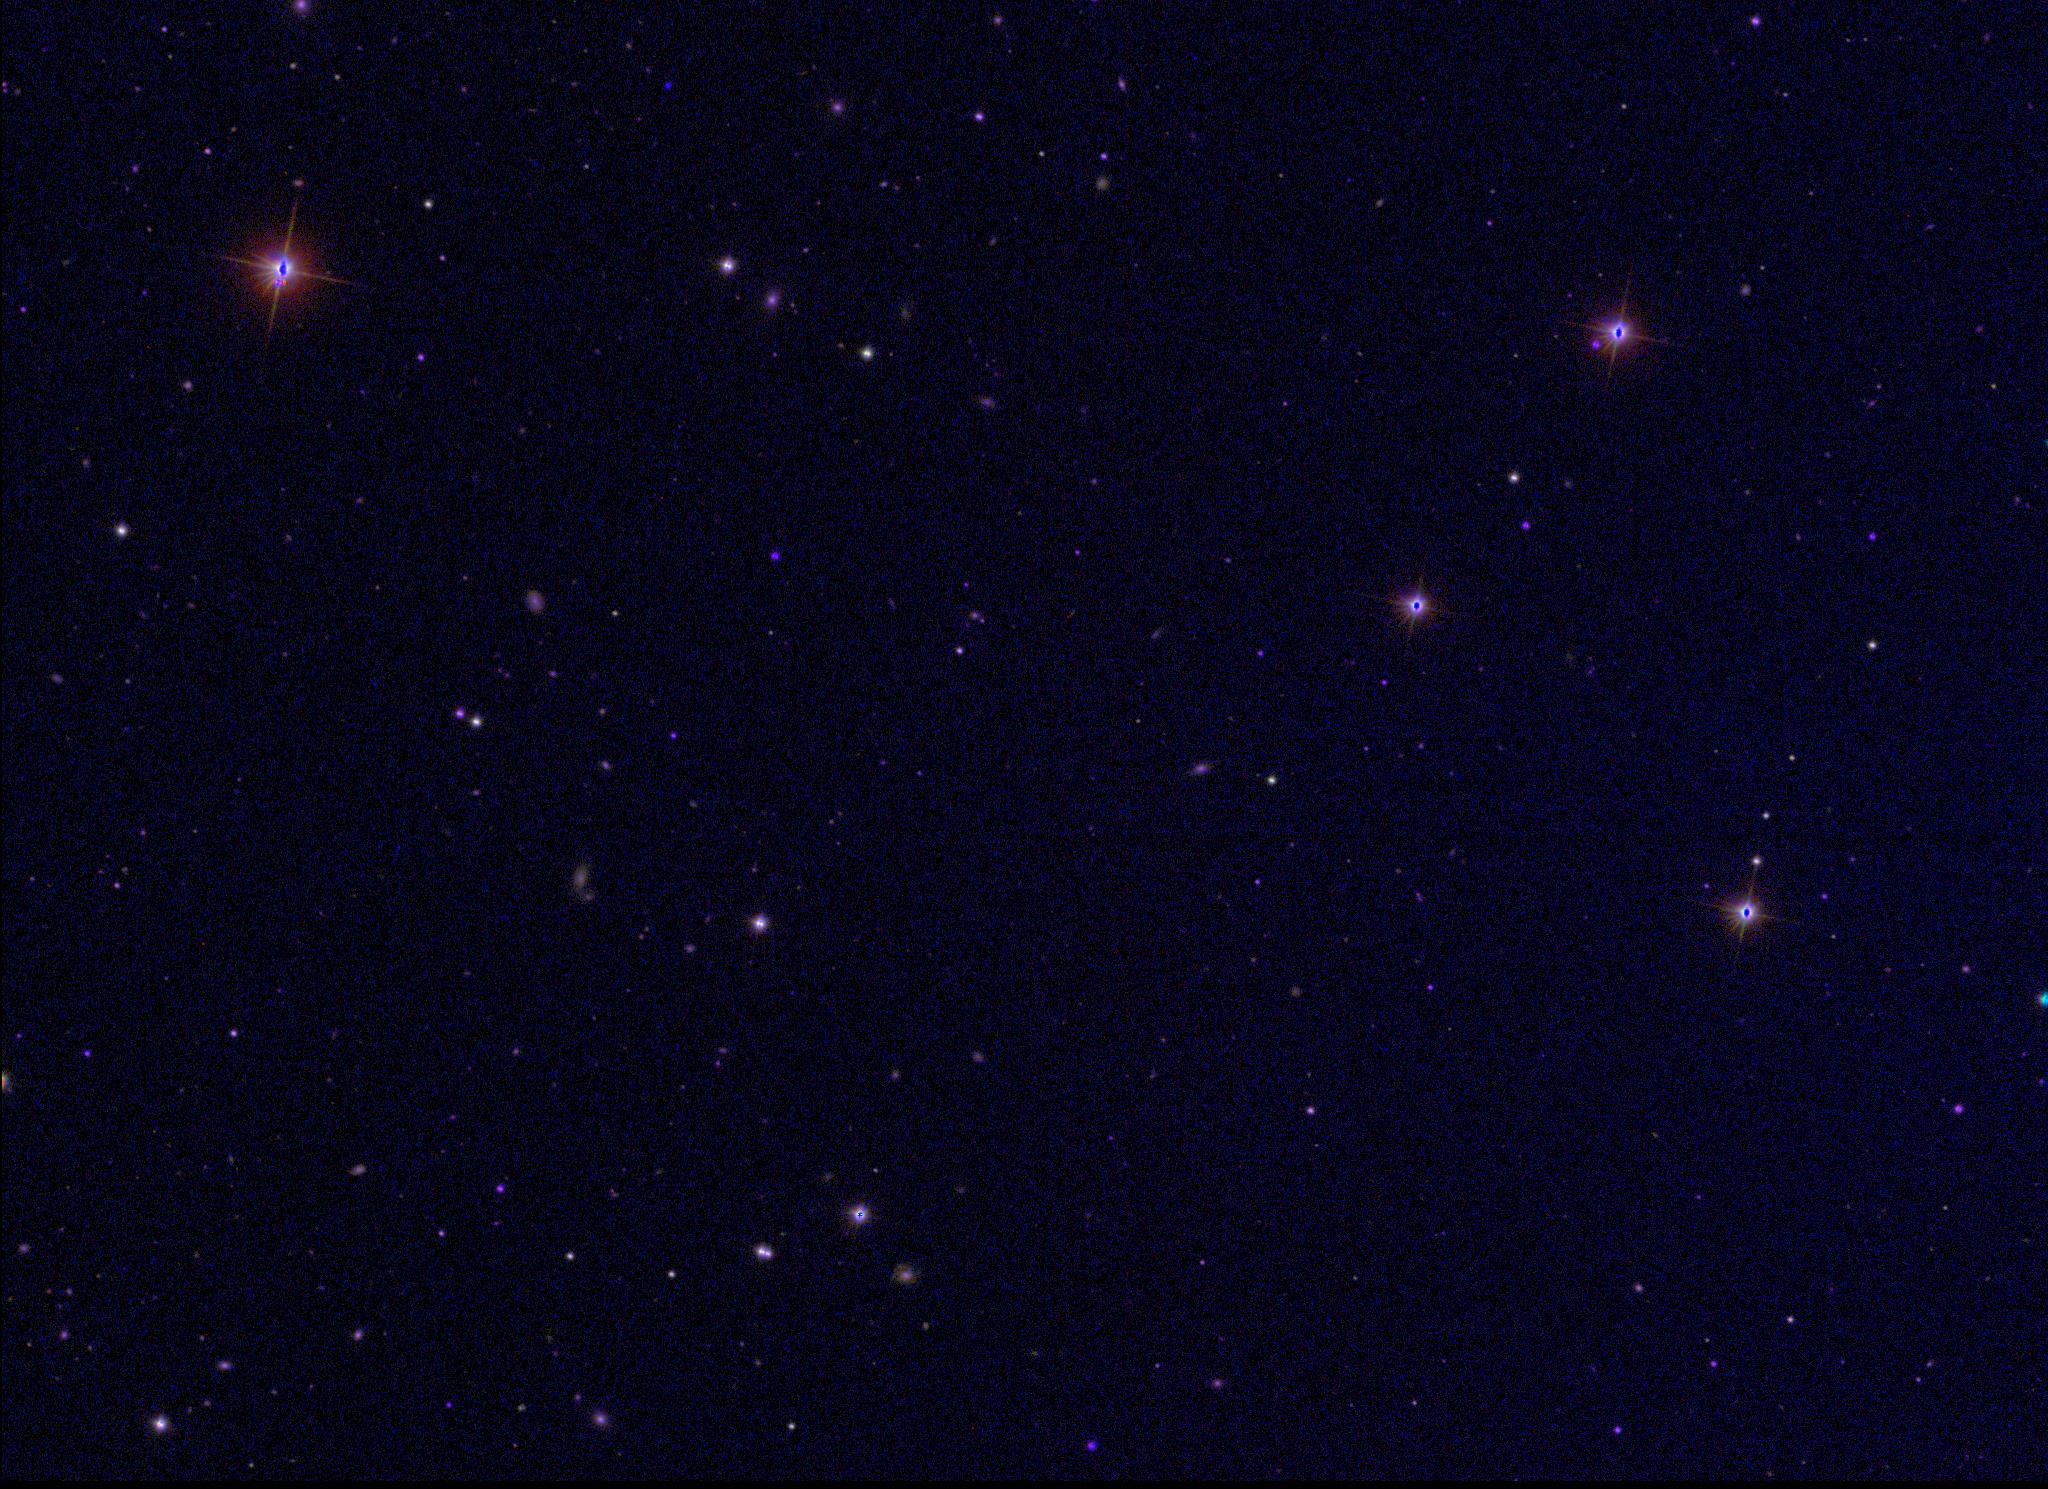L: (661, 78, 676, 92)
